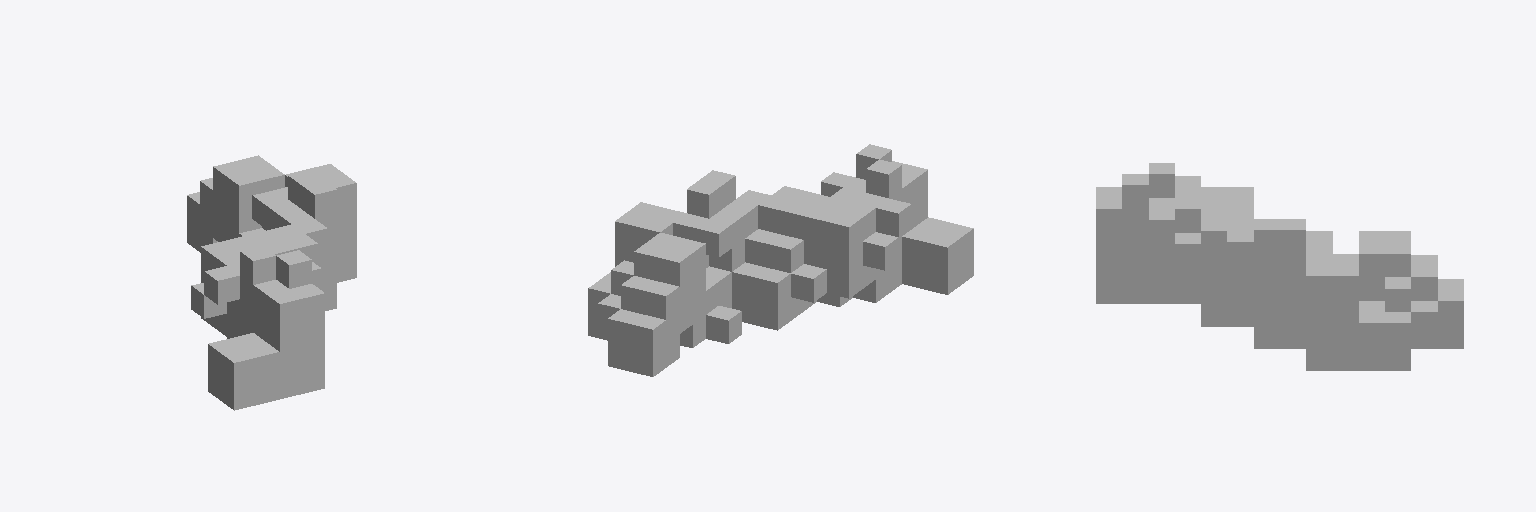
File: obstacle-right front.obj
3 views of the same model, side by side, from view 1: azimuth 30°, elevation 25°; view 2: azimuth 150°, elevation 25°; view 3: azimuth 270°, elevation 25° (orthographic).
Parts seen in each view (by area): view 1: object 1; view 2: object 1; view 3: object 1.
Part boxes in pixels (x1,y1,x2,y2): object 1: (187,155,356,410); object 1: (588,144,973,376); object 1: (1096,163,1463,370).
Bounding box in the file's own units: 1 × 0.5 × 1.4.